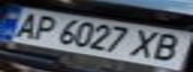0: (69, 20, 93, 51)
2: (90, 20, 115, 53)
6: (51, 17, 81, 46)
7: (106, 22, 136, 56)
A: (3, 10, 45, 39)
B: (145, 32, 190, 63)
P: (24, 12, 63, 42)
X: (127, 27, 166, 61)
